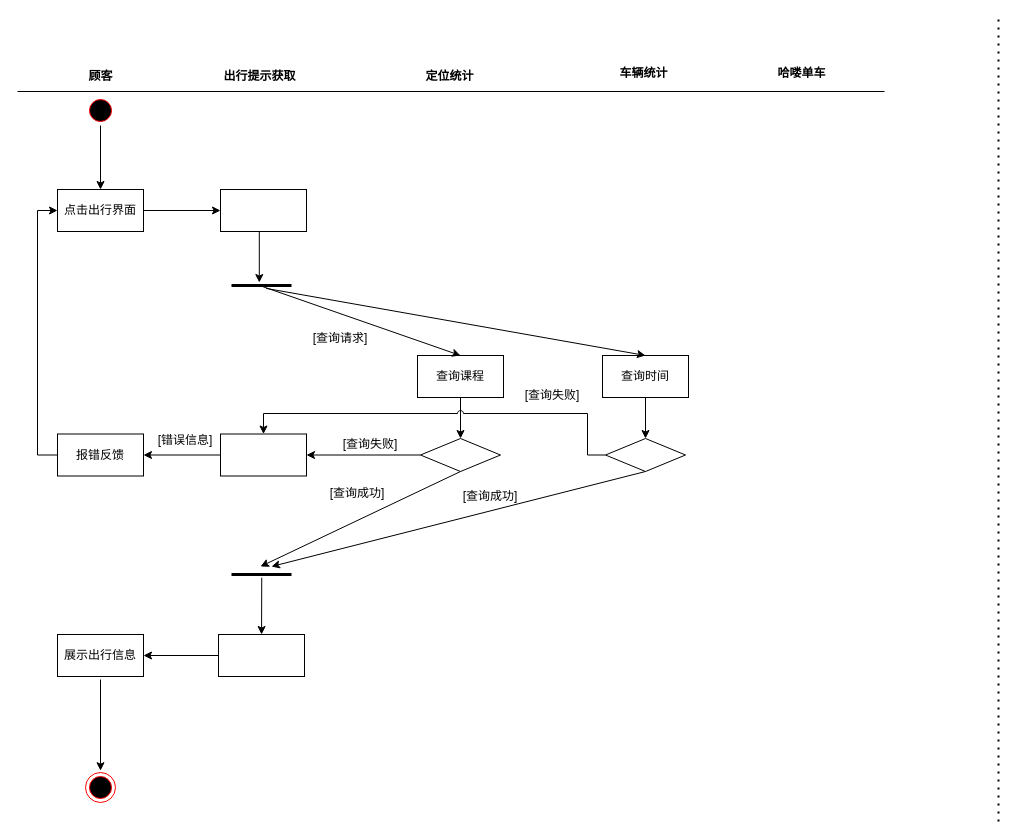
The diagram is 1018 pixels wide and 840 high, and some of its shapes have lost their labels. Each missing label, with the box of its shape:
显示基本信息: (220, 188, 306, 232)
查询失败处理: (220, 433, 306, 476)
生成出行建议: (218, 634, 304, 676)
